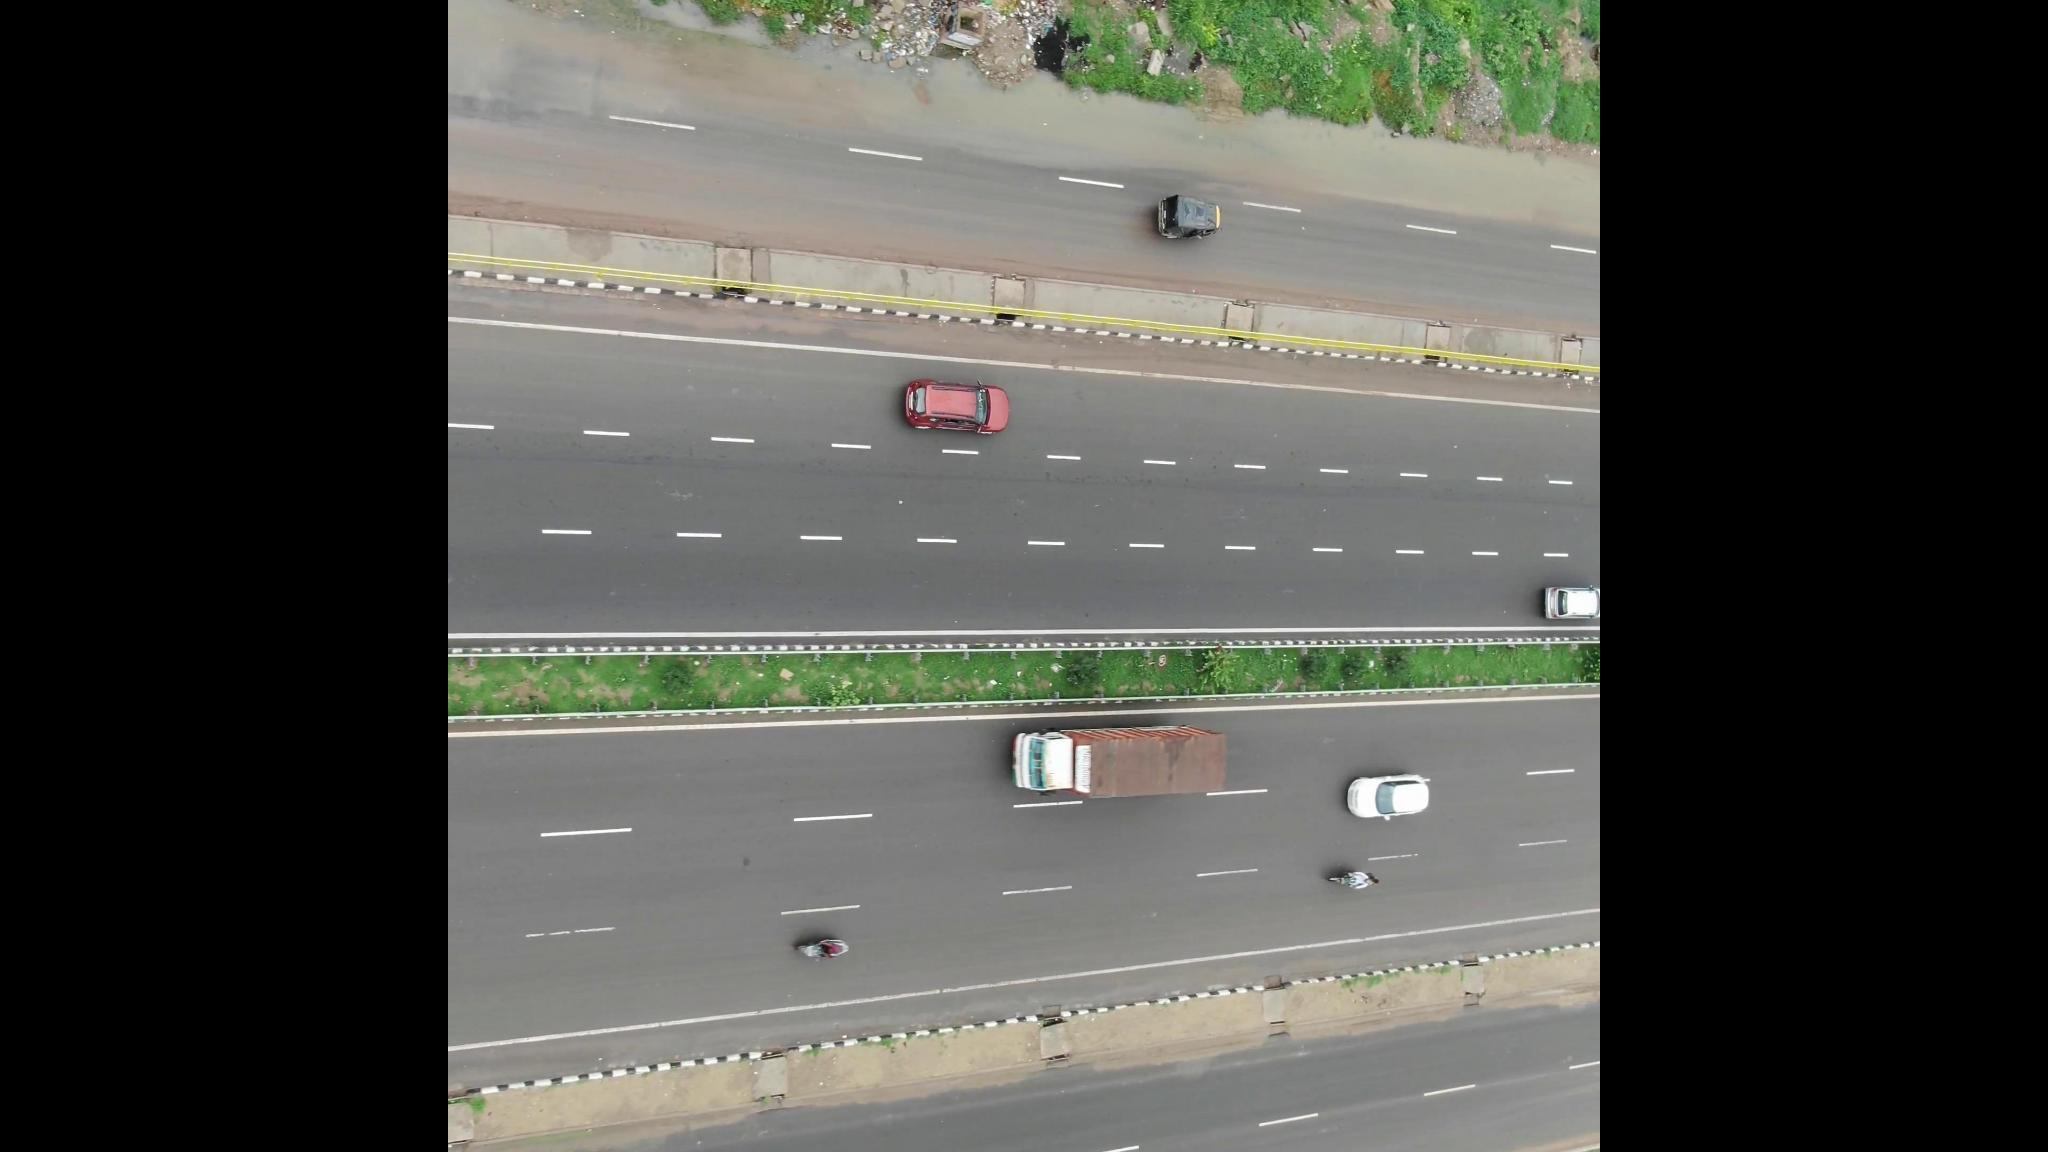Waterlogging: (1170, 90, 1543, 226), (857, 60, 1162, 173)
